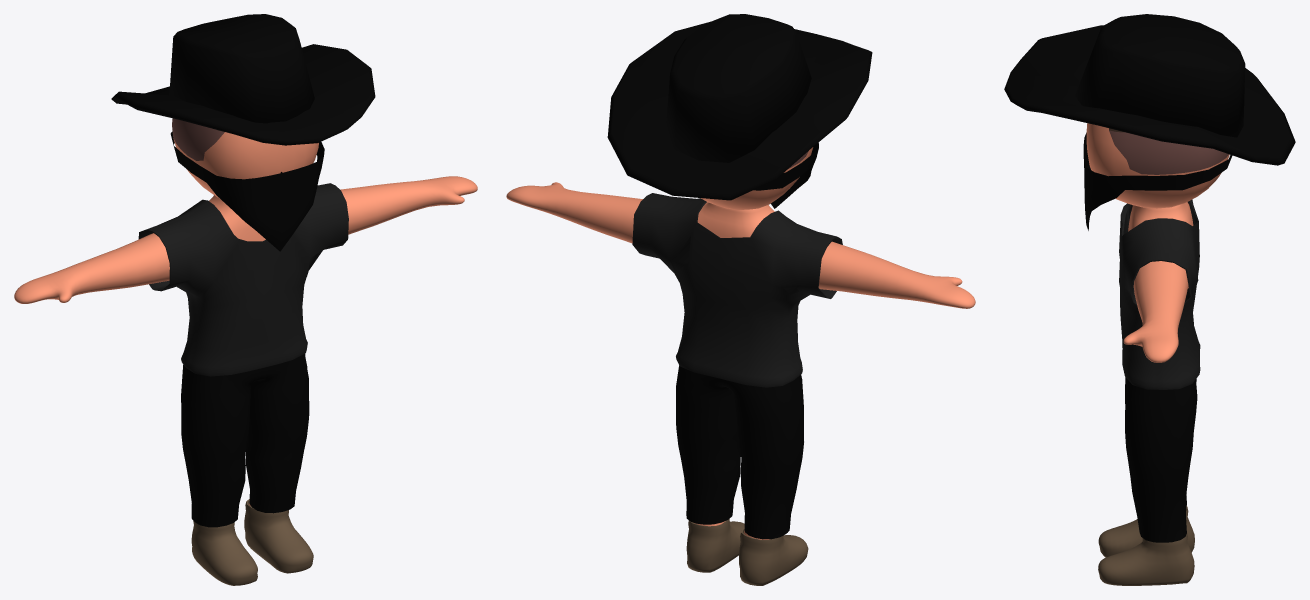
File: BanditCharacter.fbx
3 views of the same model, side by side, from view 1: azimuth 30°, elevation 25°; view 2: azimuth 150°, elevation 25°; view 3: azimuth 270°, elevation 25° (orthographic).
Visible parts, largest first — view 1: BanditMesh, BanditHat, Mask; view 2: BanditMesh, BanditHat, Mask; view 3: BanditMesh, BanditHat, Mask.
Part boxes in pixels (x1=…): BanditMesh: x1=14, y1=118, x2=477, y2=585; BanditHat: x1=111, y1=14, x2=375, y2=145; Mask: x1=170, y1=131, x2=324, y2=251; BanditMesh: x1=506, y1=147, x2=975, y2=585; BanditHat: x1=607, y1=14, x2=872, y2=200; Mask: x1=753, y1=142, x2=818, y2=208; BanditMesh: x1=1086, y1=123, x2=1229, y2=585; BanditHat: x1=1004, y1=14, x2=1295, y2=165; Mask: x1=1083, y1=132, x2=1232, y2=230.
Bounding box in the file's own units: 2.05 × 2.25 × 1.12.
